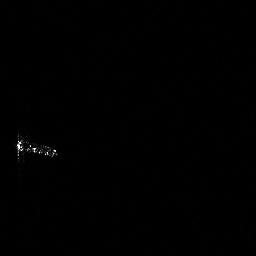ship: (15, 138, 58, 156)
